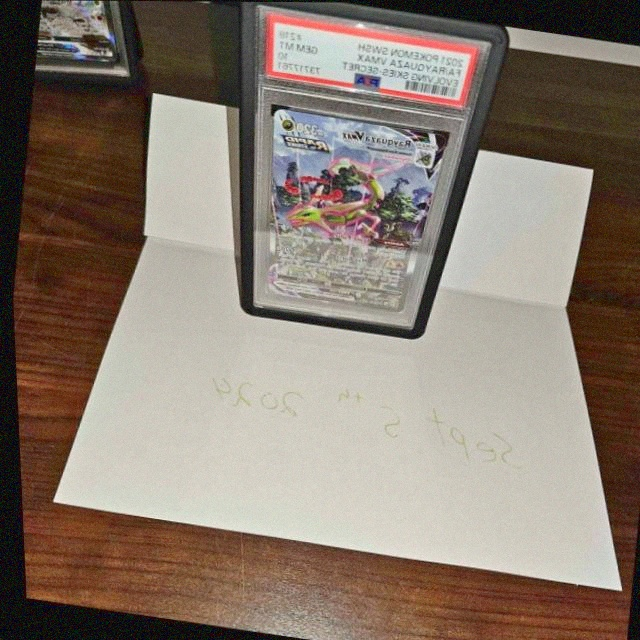card: (264, 109, 445, 311)
